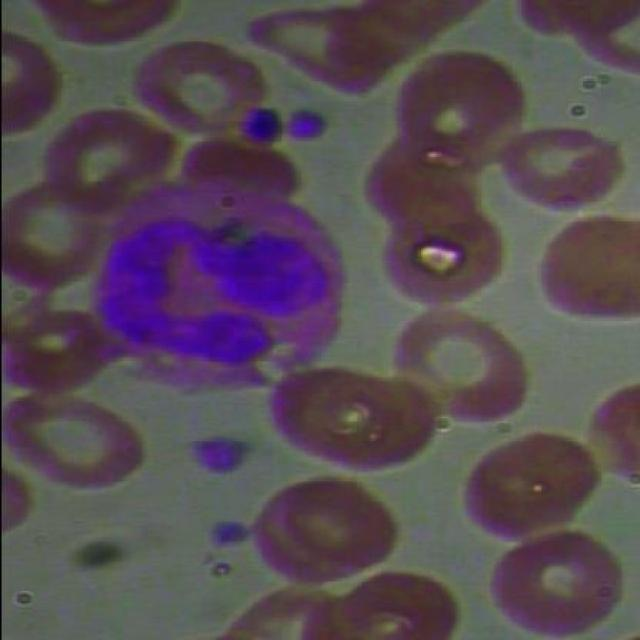Platelets: (187, 425, 258, 481), (278, 103, 339, 145), (196, 518, 258, 552), (233, 104, 281, 144)
RBC: (263, 356, 428, 478), (377, 305, 541, 426), (1, 386, 150, 503), (391, 47, 527, 171), (123, 37, 274, 146), (31, 105, 182, 213), (481, 525, 625, 638), (458, 430, 602, 542), (376, 199, 506, 307), (268, 472, 401, 574), (488, 122, 629, 218), (520, 210, 638, 318), (0, 185, 123, 287)
WBC: (85, 177, 349, 394)
